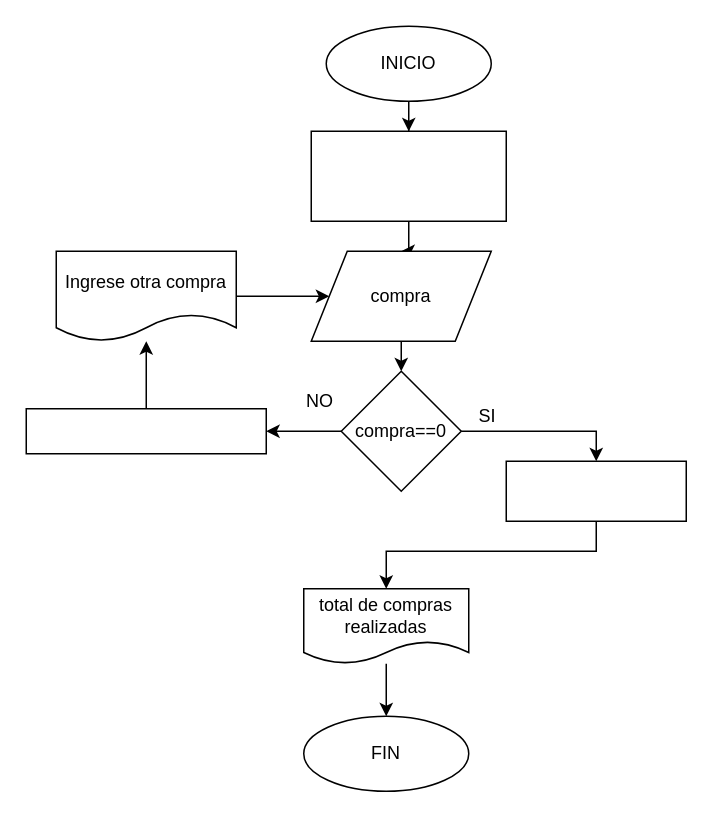
The diagram is 713 pixels wide and 818 high, and some of its shapes have lost their labels. Each missing label, with the centre of its shape:
"contador=caompras+valor" goes at point (145, 430).
"Declarar contador,contador1, contador2,valor,valor1, valor2,compras,t" goes at point (408, 175).
"t=valor+valor2+valor" goes at point (595, 490).
